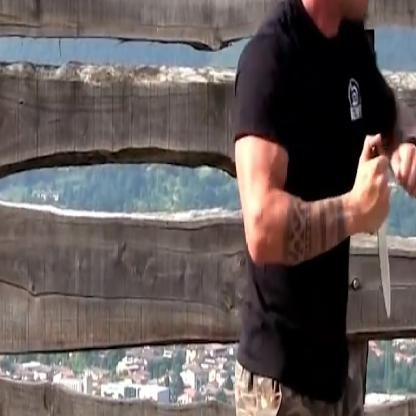knife: (355, 152, 396, 322)
